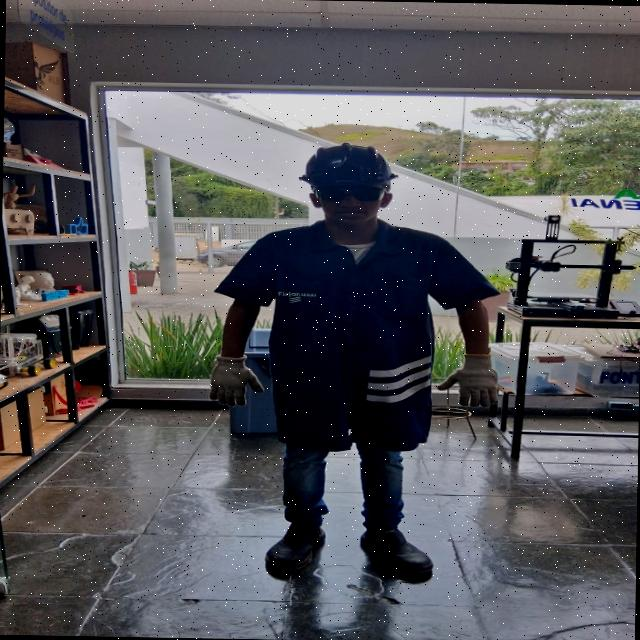BOTA: (354, 522, 443, 574), (259, 518, 332, 575)
CAPACETE: (291, 138, 395, 183)
JALECO: (206, 206, 513, 455)
LUVA: (434, 350, 506, 411), (209, 348, 270, 408)
OCULOS: (308, 185, 396, 202)
